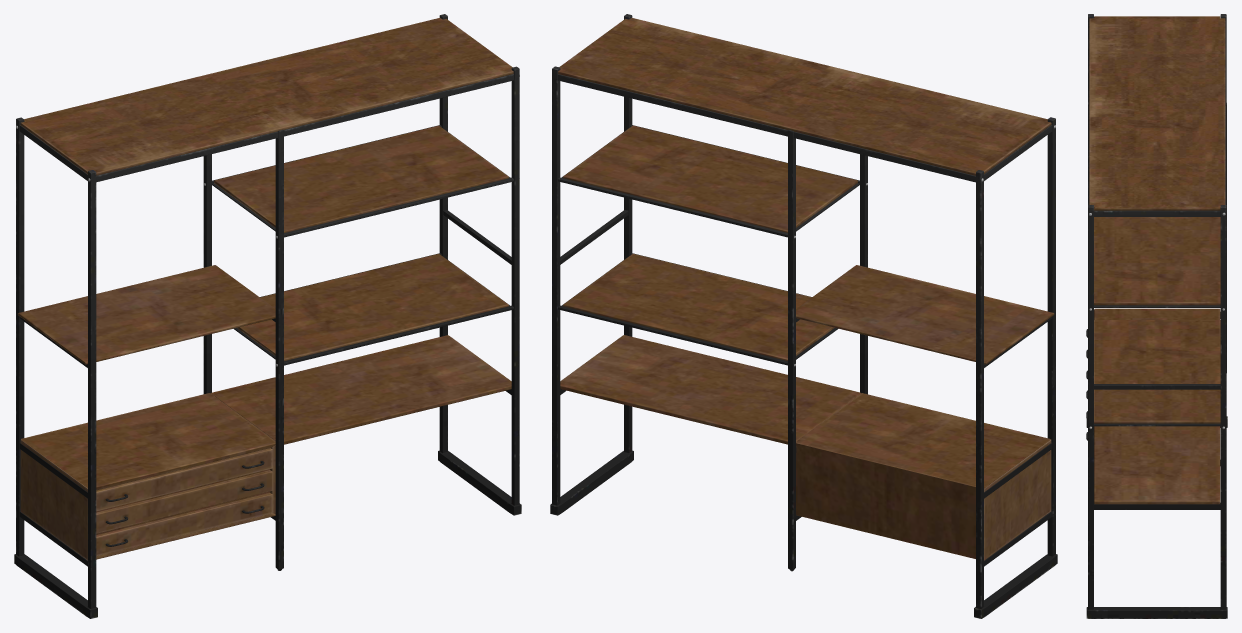
The model's file is steel_shelves.glb.
3 views of the same model, side by side, from view 1: azimuth 30°, elevation 25°; view 2: azimuth 150°, elevation 25°; view 3: azimuth 270°, elevation 25° (orthographic). The views are drawn at different scales.
Parts seen in each view (by area): view 1: steel_frame_shelves_03; view 2: steel_frame_shelves_03; view 3: steel_frame_shelves_03.
Part boxes in pixels (<box>): steel_frame_shelves_03: <box>14,14,521,618</box>; steel_frame_shelves_03: <box>550,14,1057,618</box>; steel_frame_shelves_03: <box>1086,14,1227,618</box>.
Size of the model in its own units: 2.35 by 2.31 by 0.7213.
1 material, 1 textured.
